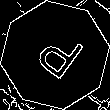P_SW: (25, 23, 85, 87)
